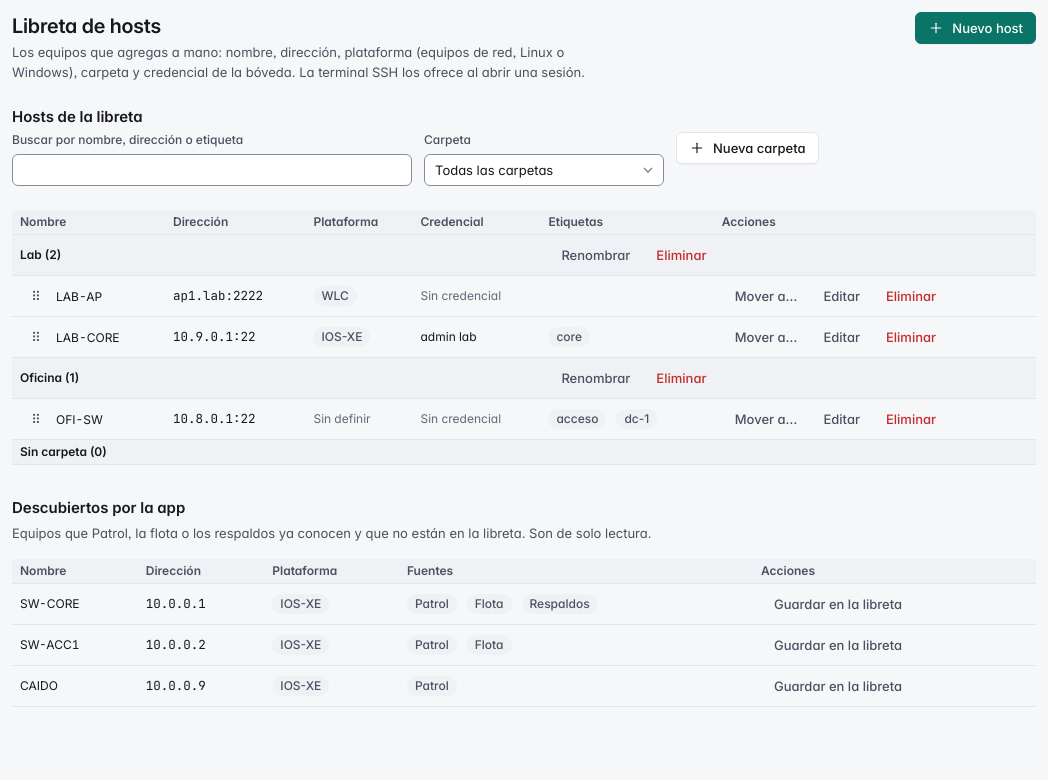
Test: busca por nombre, dirección o etiqueta y filtra por carpeta
In the field labelled "Buscar por nombre, dirección o etiqueta": (212, 170) [12,154,412,186], type "dc-1"
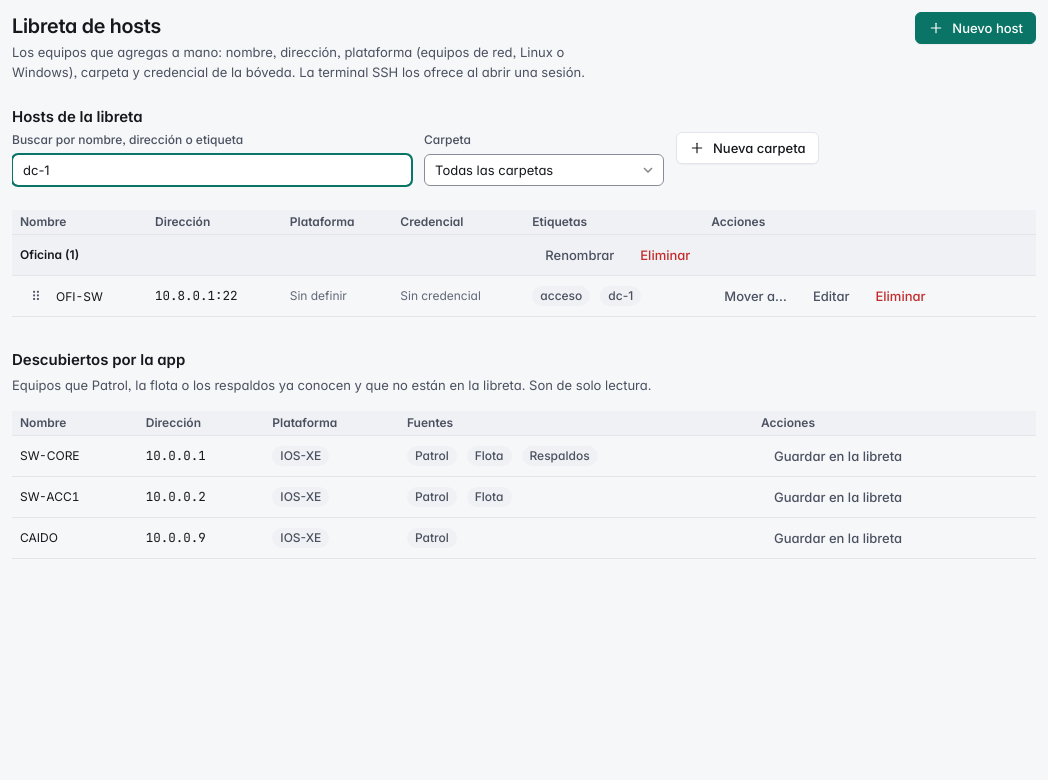
Expected: the text "OFI-SW" is shown, [56,289,103,304]
Now the text "LAB-CORE" is gone
Clear the field labelled "Buscar por nombre, dirección o etiqueta": (212, 170) [12,154,412,186]
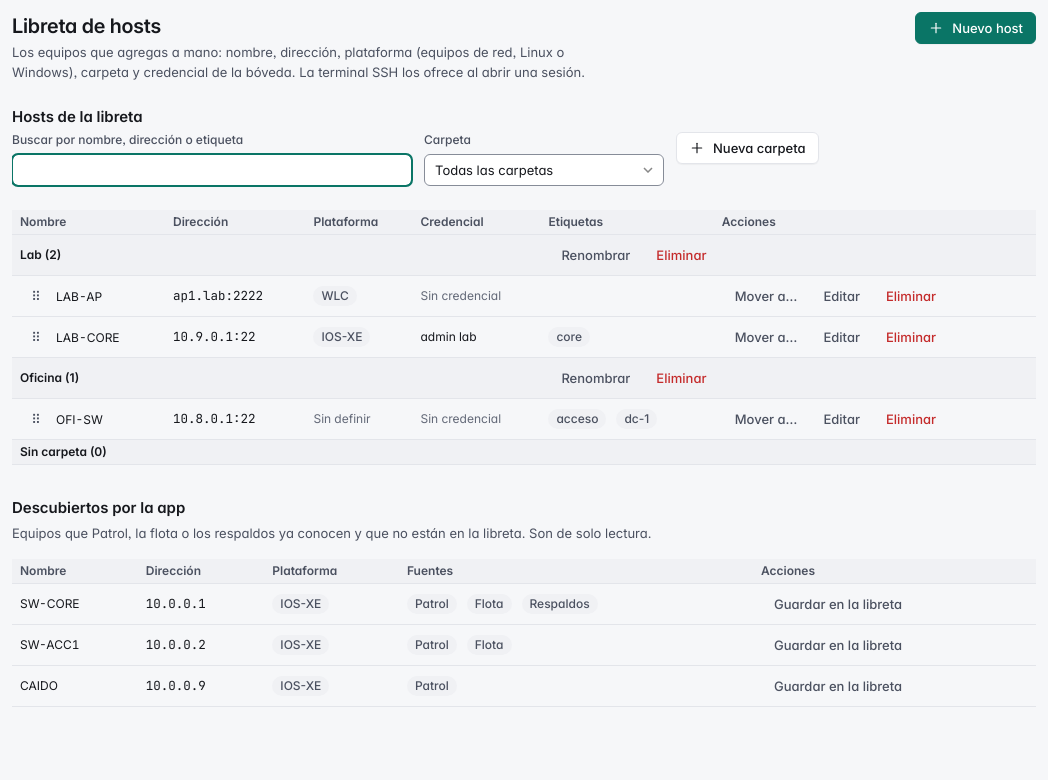
Select "Lab" in the dropdown labelled "Carpeta": (544, 170) [424,154,664,186]
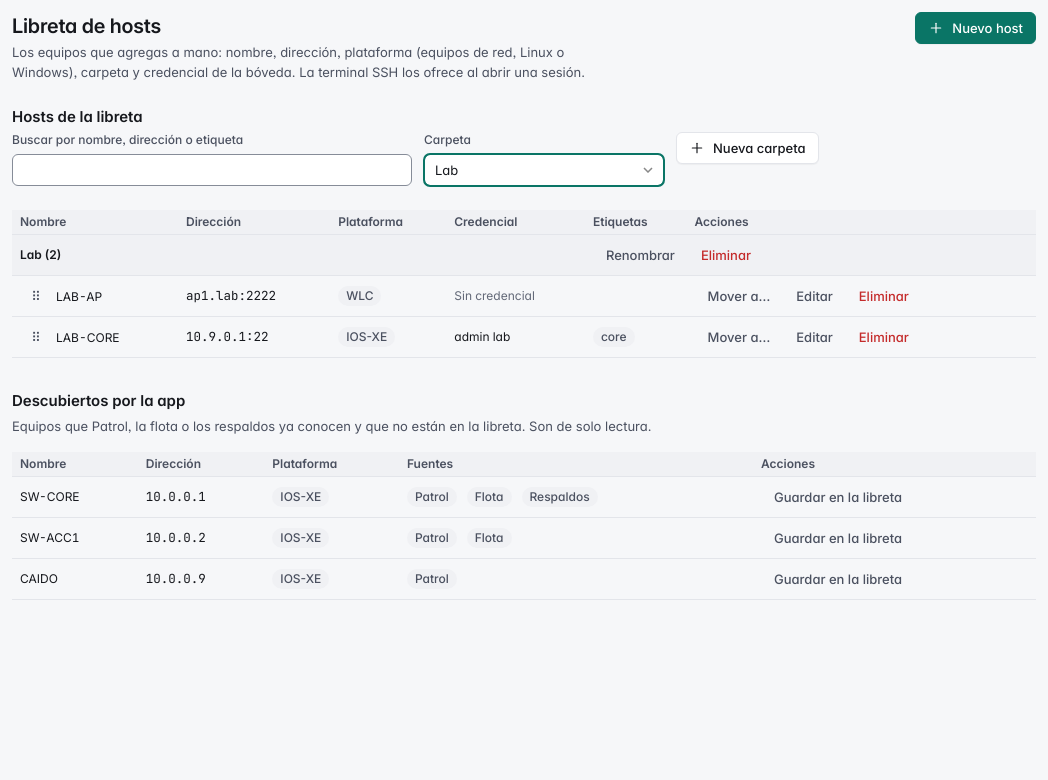
Now the text "LAB-AP" is shown, box [56,289,102,304]
Now the text "OFI-SW" is gone
